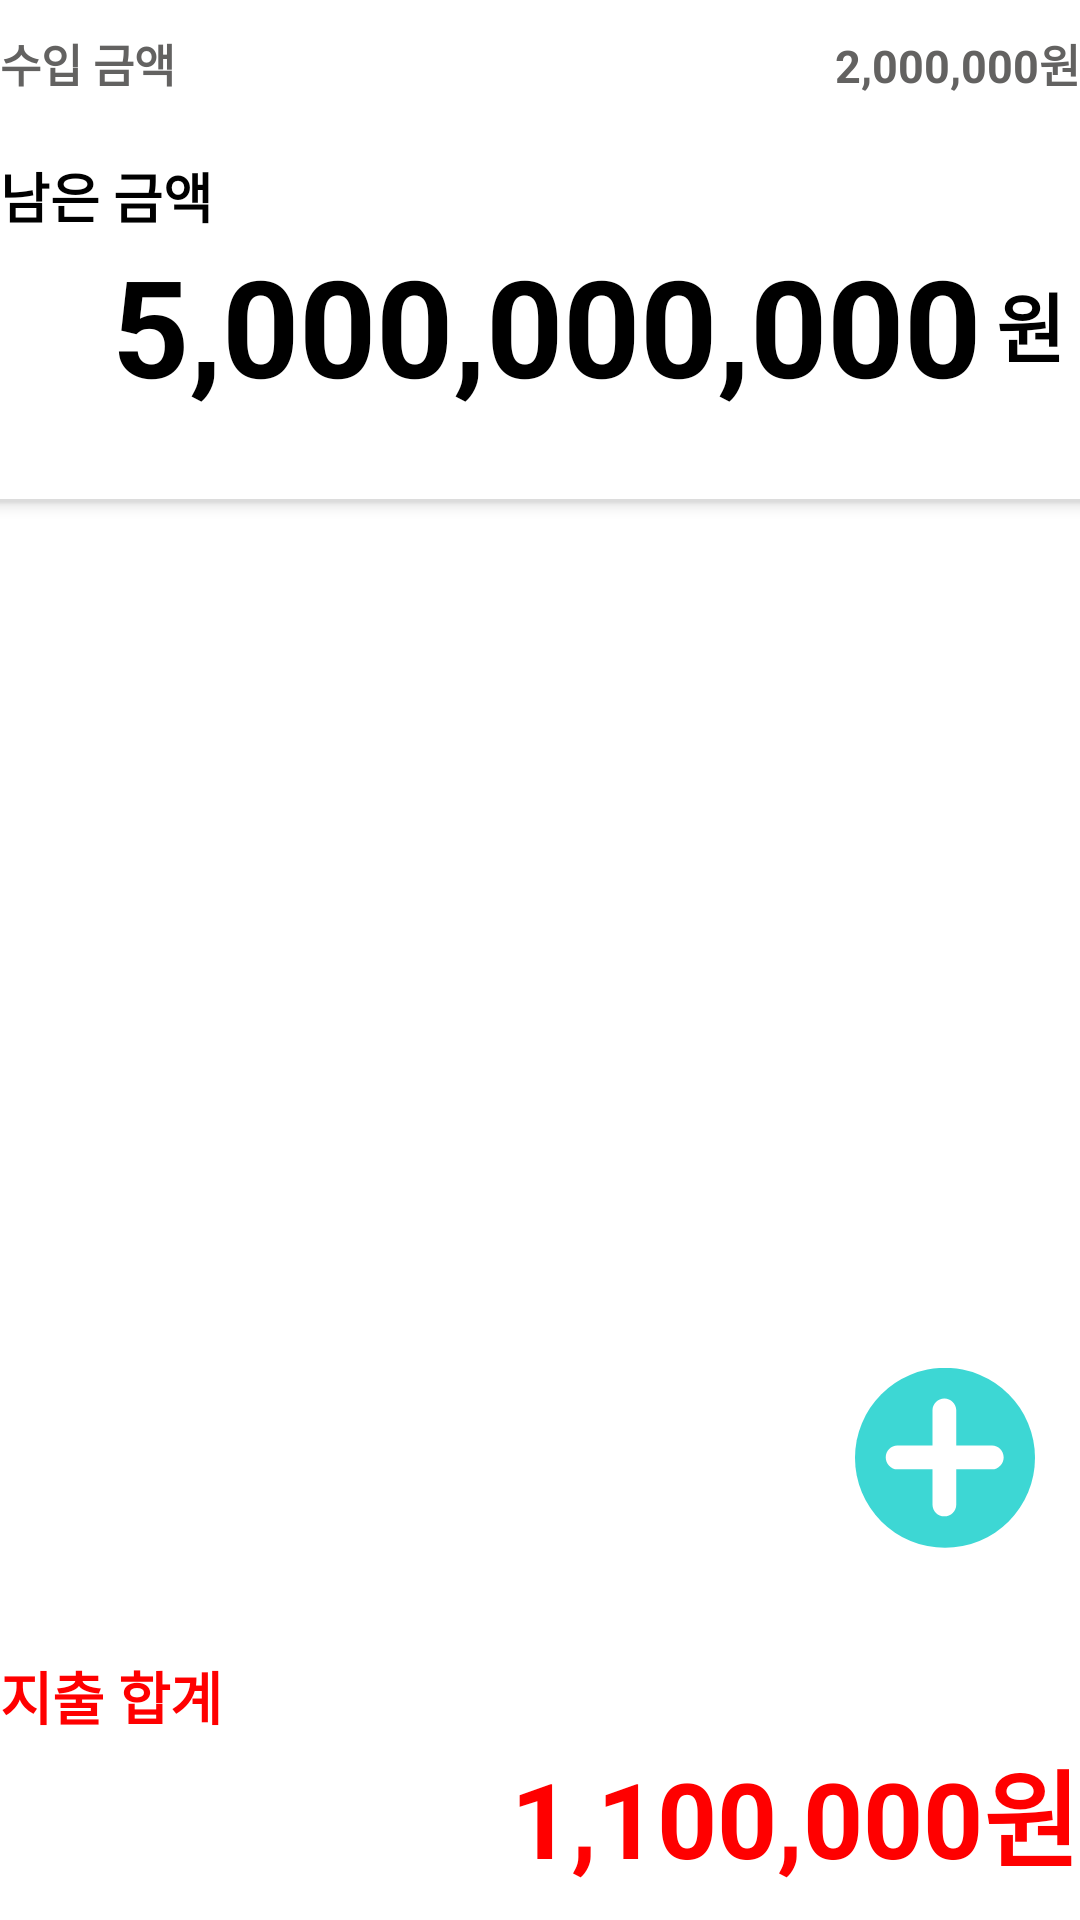

Named icons in this screenshot (1080*1920) and their bounding boxes, (x1, y1, x2, y2):
add: (855, 1368, 1035, 1548)
